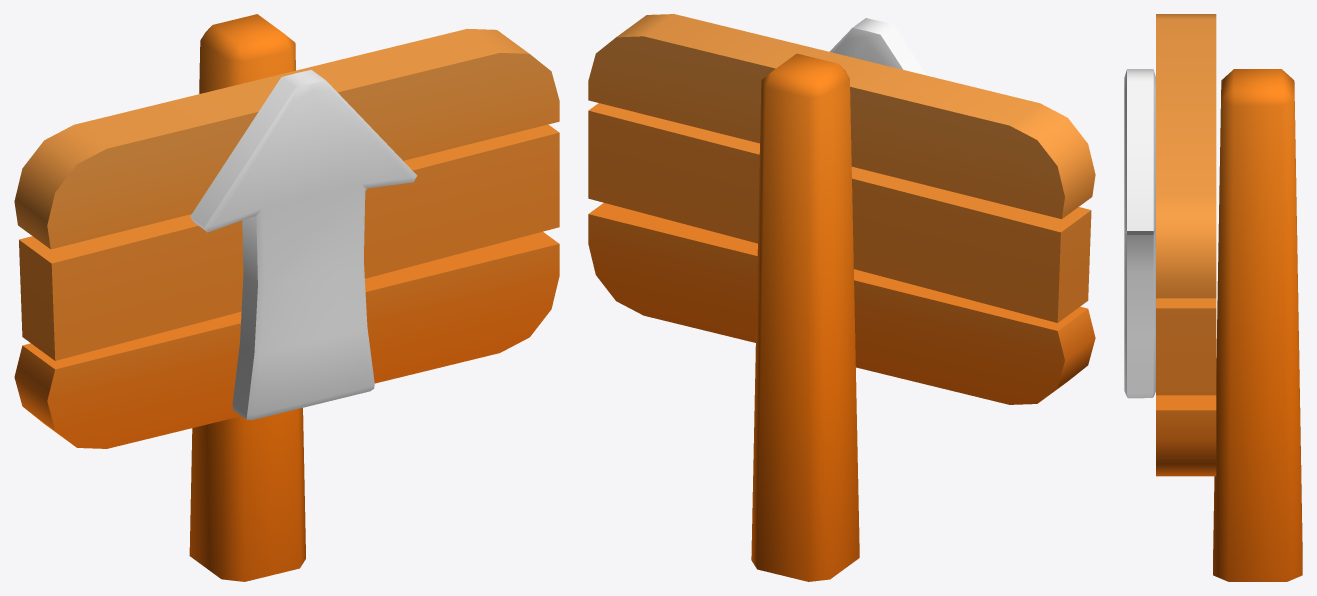
File: Prop_Wooden_Sign_03.fbx
3 views of the same model, side by side, from view 1: azimuth 30°, elevation 25°; view 2: azimuth 150°, elevation 25°; view 3: azimuth 270°, elevation 25° (orthographic). The views are drawn at different scales.
Visible parts, largest first — view 1: Prop_Wooden_Sign_03; view 2: Prop_Wooden_Sign_03; view 3: Prop_Wooden_Sign_03.
Part boxes in pixels (left/top/right/bottom): Prop_Wooden_Sign_03: left=14, top=14, right=559, bottom=581; Prop_Wooden_Sign_03: left=588, top=14, right=1095, bottom=581; Prop_Wooden_Sign_03: left=1124, top=14, right=1302, bottom=581.
Bounding box in the file's own units: 90.11 × 88.8 × 29.65.
